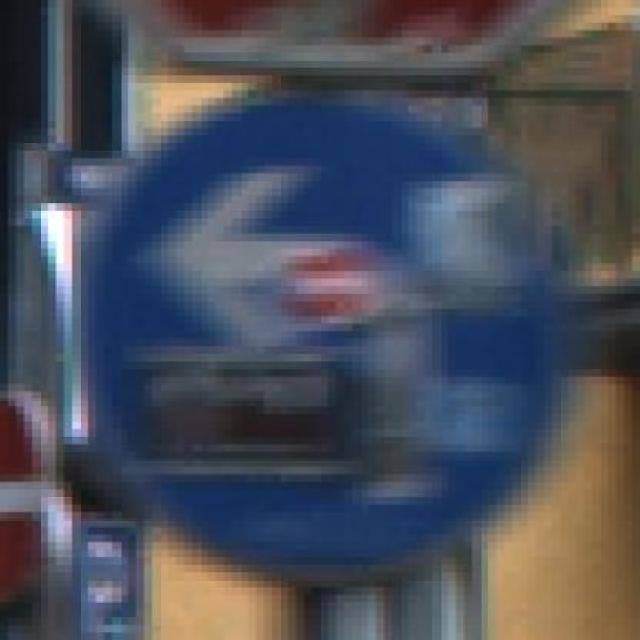Turn left ahead: (100, 96, 565, 572)
